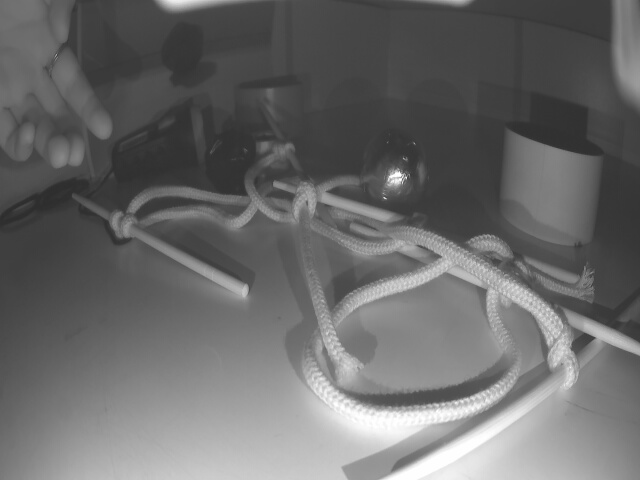Dead: (207, 130, 259, 190)
Live: (361, 127, 426, 211)
